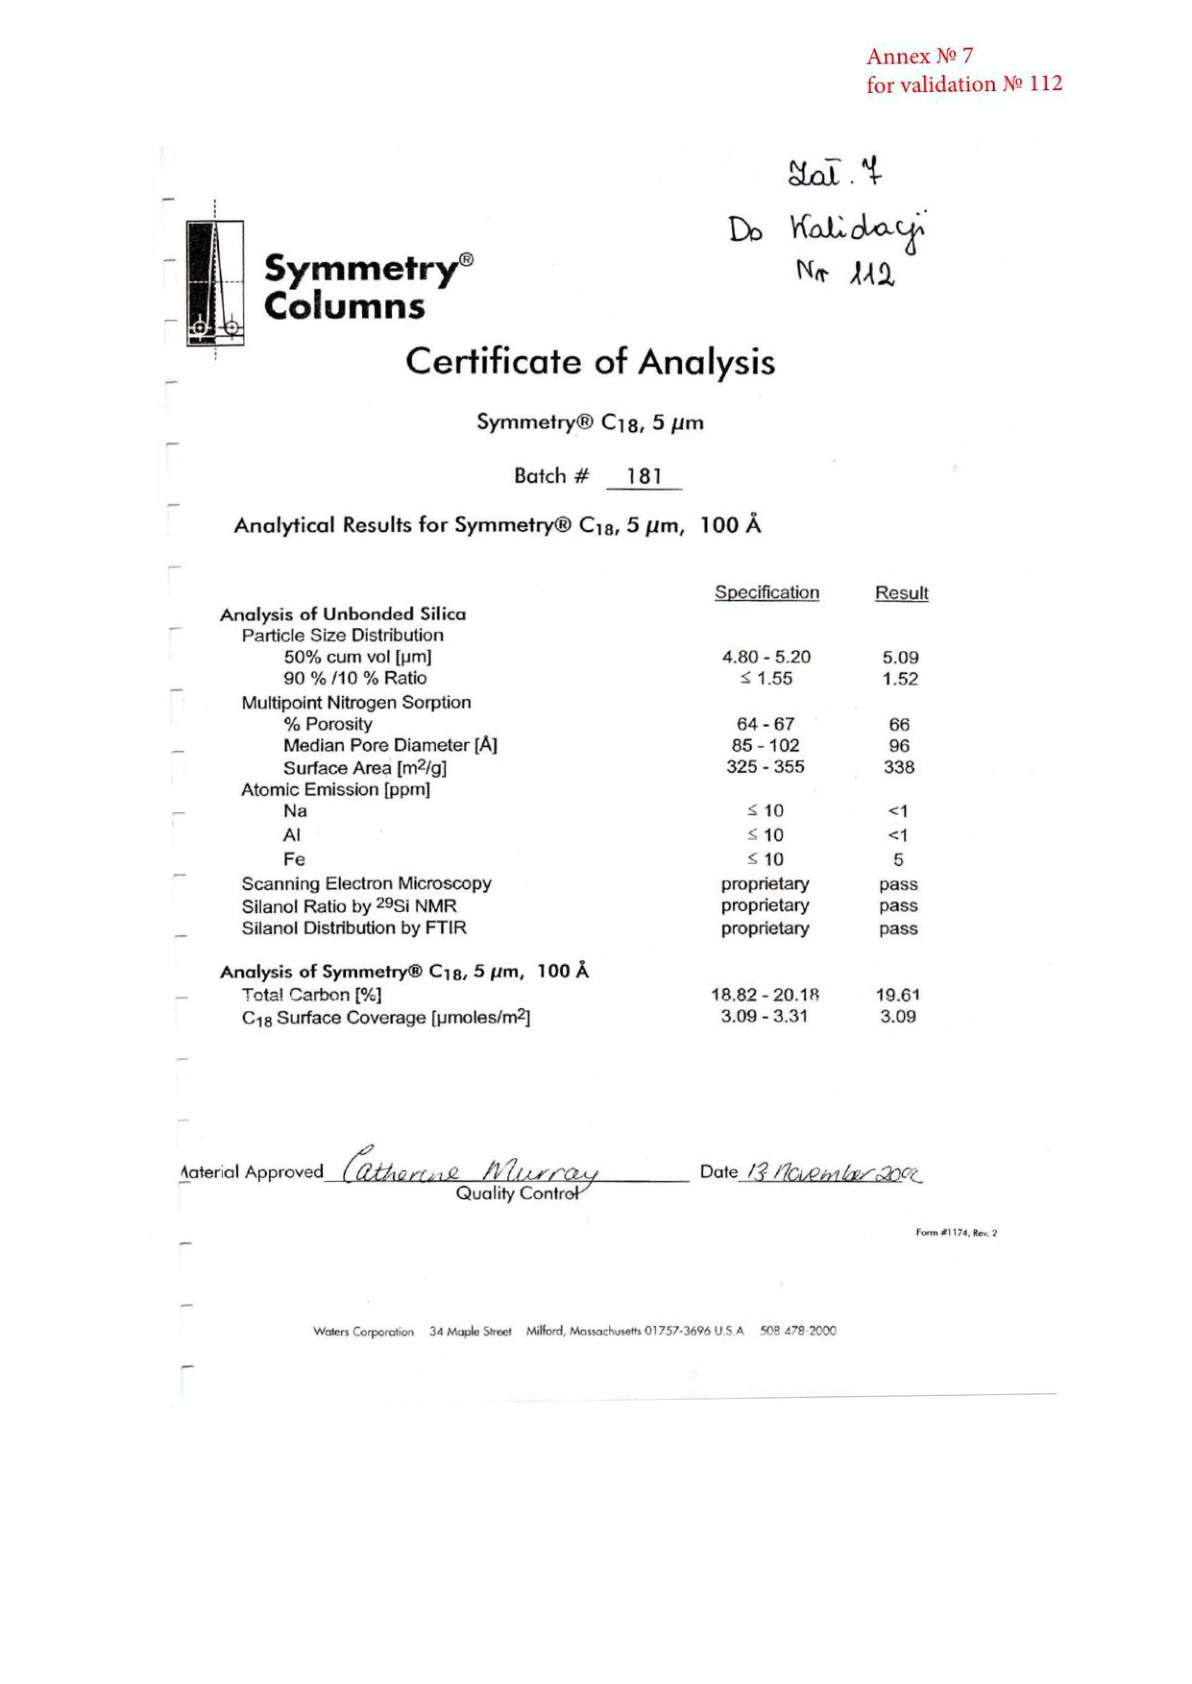nolines: (218, 582, 931, 1032)
